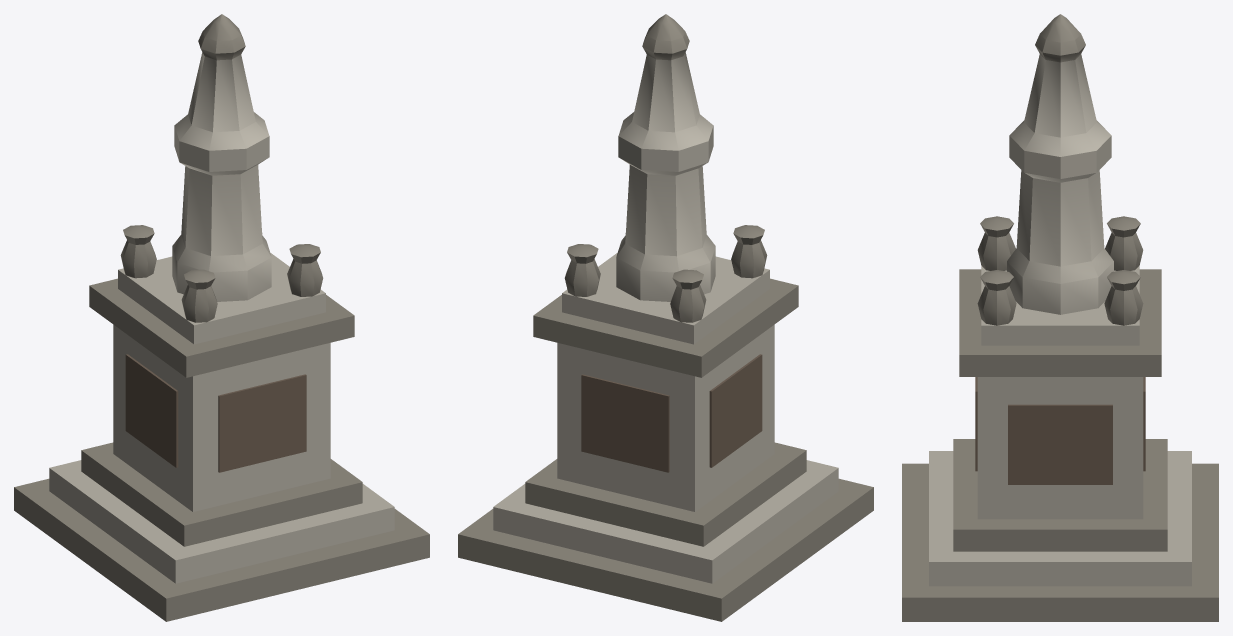
Rendered from env_monument.obj.
3 renders of one model, left to right at view 1: azimuth 30°, elevation 25°; view 2: azimuth 150°, elevation 25°; view 3: azimuth 270°, elevation 25°, orthographic. The views are drawn at different scales.
Visible parts, largest first — view 1: Monument; view 2: Monument; view 3: Monument.
Boxes of the visible parts, left/top/right/bottom form: Monument: left=14, top=14, right=429, bottom=621; Monument: left=458, top=14, right=873, bottom=621; Monument: left=902, top=14, right=1218, bottom=621.
Size of the model in its own units: 2.6 by 4.9 by 2.6.
